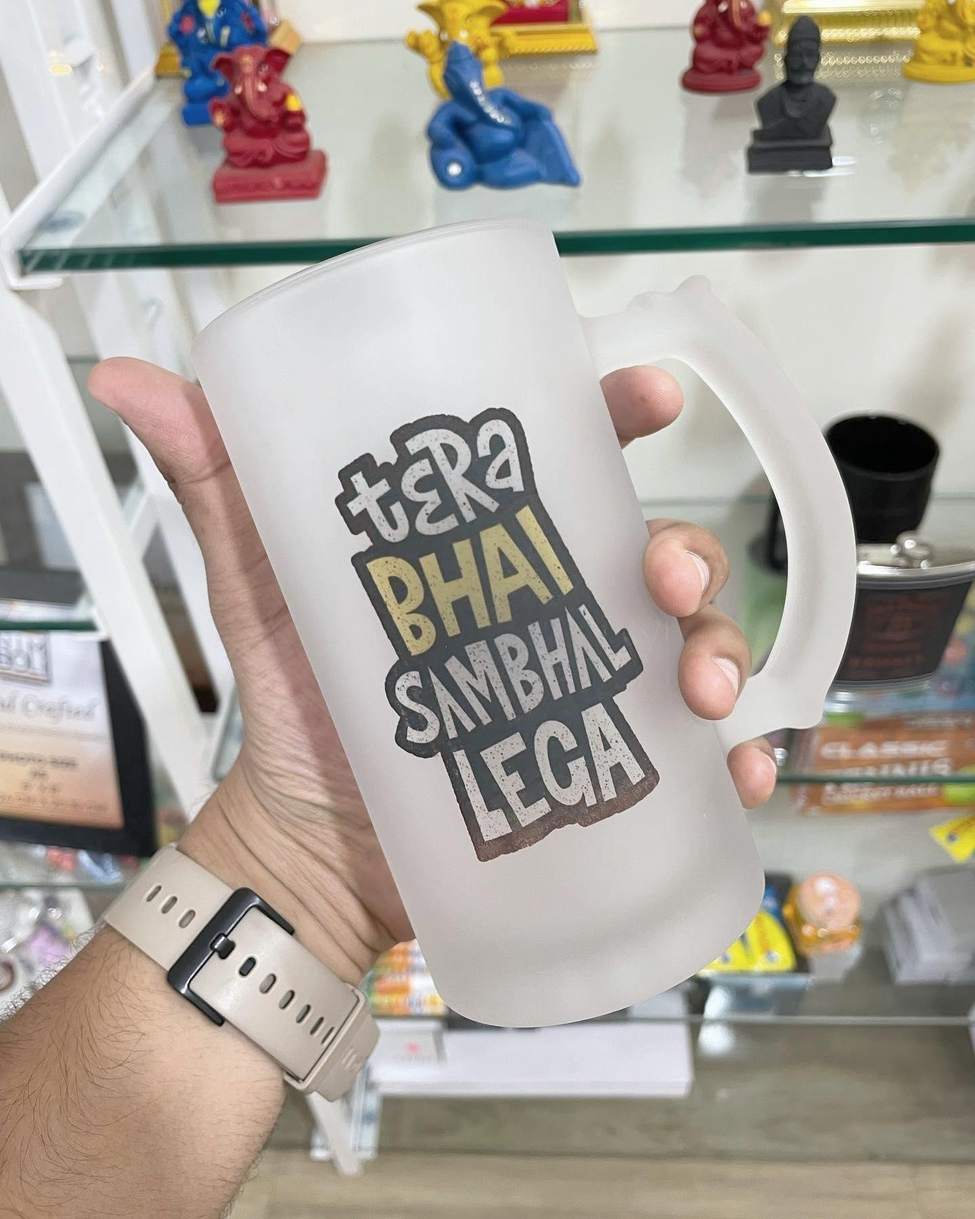glass-mug: (190, 209, 870, 1052)
